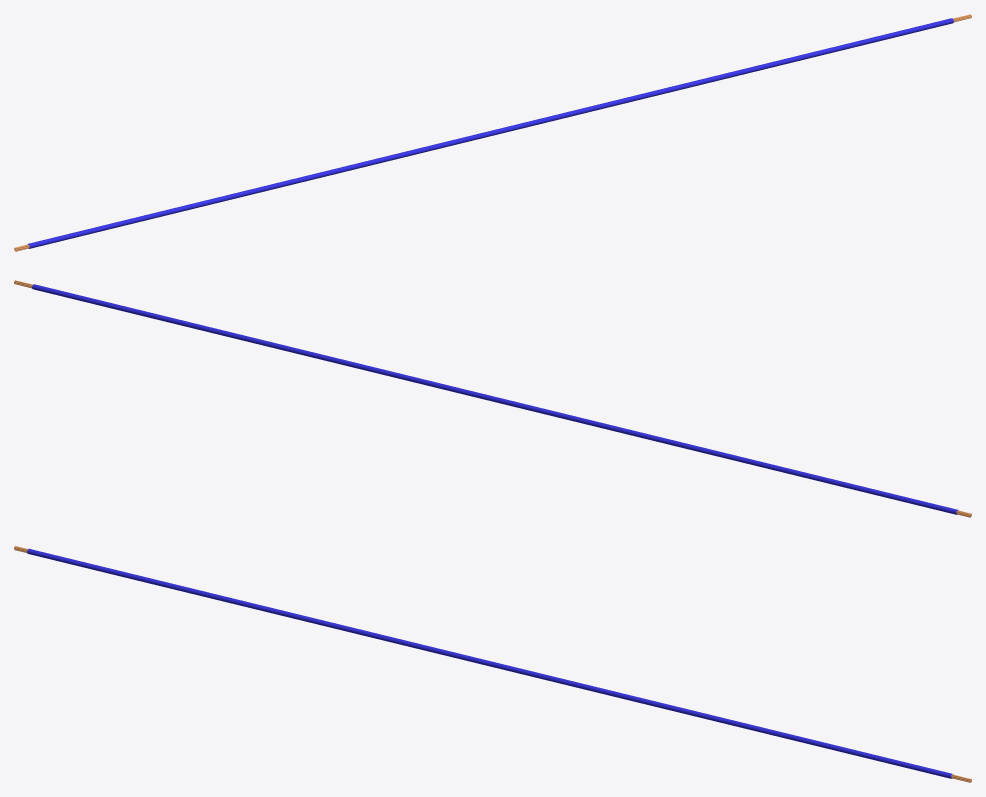
File: BlauesKabel.glb
3 renders of one model, top to bottom at view 1: azimuth 30°, elevation 25°; view 2: azimuth 150°, elevation 25°; view 3: azimuth 330°, elevation 25°, orthographic.
Parts seen in each view (by area): view 1: Cylinder.007; view 2: Cylinder.007; view 3: Cylinder.007.
Part boxes in pixels (box(x1,y1,x2,y2)): Cylinder.007: box(14, 14, 971, 251); Cylinder.007: box(14, 280, 971, 517); Cylinder.007: box(14, 546, 971, 782).
Size of the model in its own units: 0.2 by 0.001 by 0.001.
